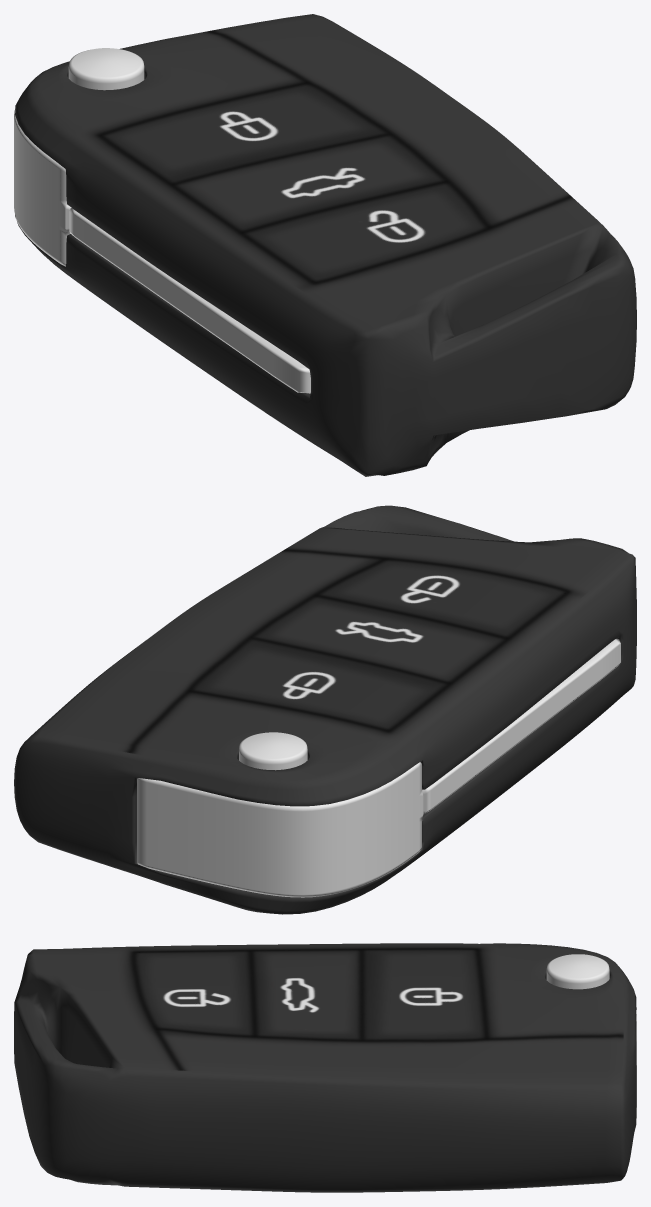
Rendered from car_key.glb.
3 views of the same model, one above another, from view 1: azimuth 30°, elevation 25°; view 2: azimuth 150°, elevation 25°; view 3: azimuth 270°, elevation 25° (orthographic). The views are drawn at different scales.
Parts seen in each view (by area): view 1: Plastic_2, Metal_1; view 2: Plastic_2, Metal_1; view 3: Plastic_2, Metal_1.
Boxes of the visible parts, box(x1,y1,x2,y2) form: Plastic_2: box(15, 14, 636, 476); Metal_1: box(14, 48, 310, 393); Plastic_2: box(14, 505, 636, 914); Metal_1: box(137, 638, 620, 897); Plastic_2: box(14, 943, 636, 1192); Metal_1: box(546, 954, 636, 1118).
Bounding box in the file's own units: 0.046 × 0.0204 × 0.0814.
Materials: 3 (2 with a texture image).
